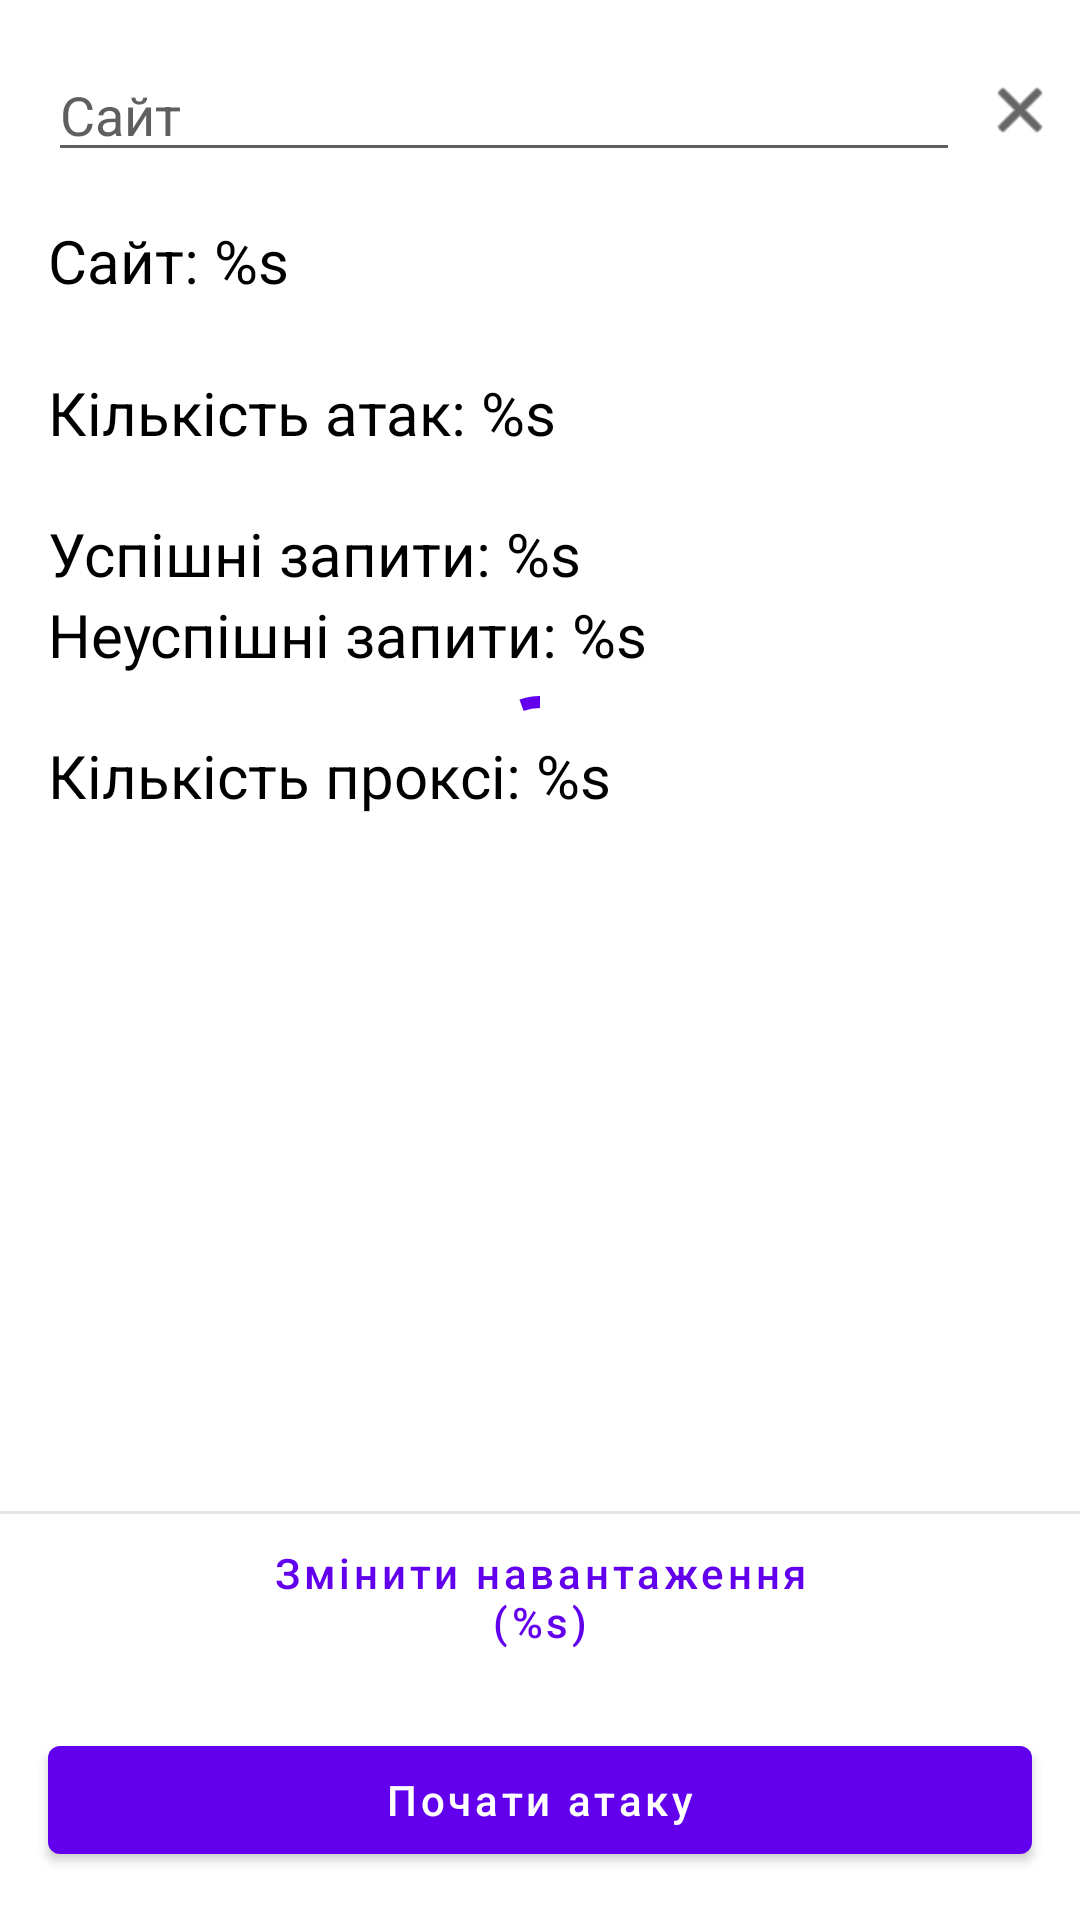

Named icons in this screenshot (1080 × 1920) and their bounding boxes, bbox(x1, y1, x2, y2):
close clear cancel: bbox(997, 87, 1043, 133)
